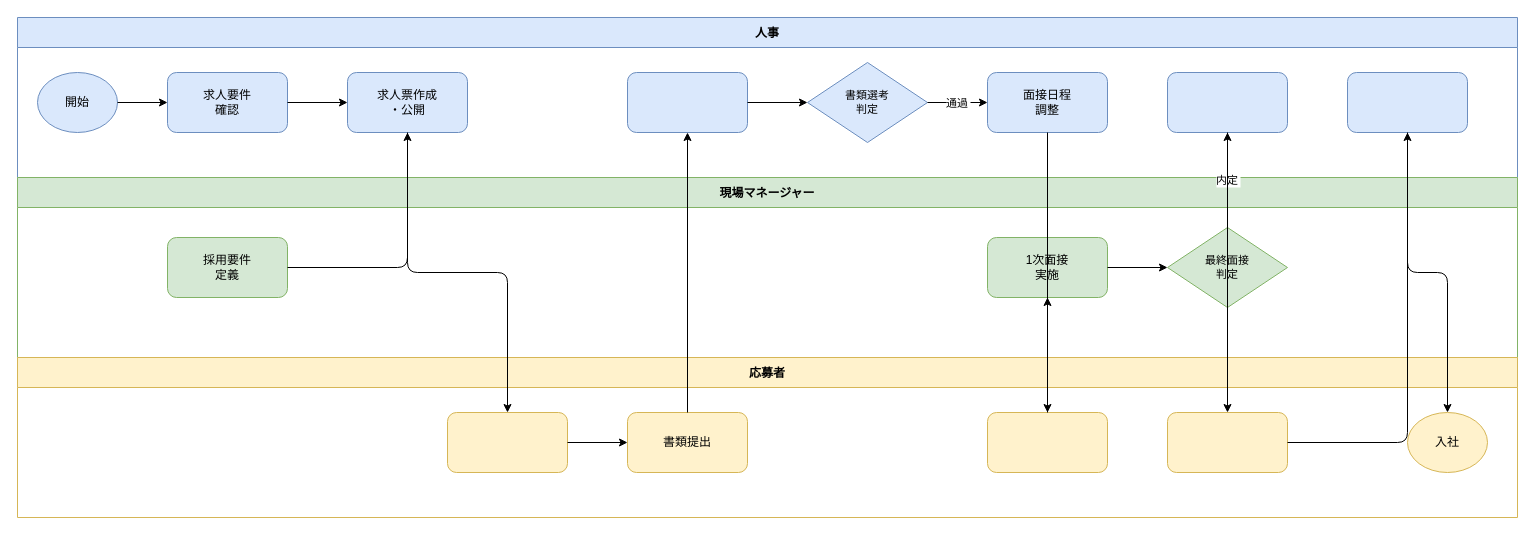
Image size: 1535x535. Some labels were removed from this diagram. Each missing label, with the centre of its shape:
"入社手続き" belongs at [1407,102].
"内定承諾" belongs at [1227,442].
"内定通知 発送" belongs at [1227,102].
"書類選考" belongs at [687,102].
"求人閲覧 エントリー" belongs at [507,442].
"面接参加" belongs at [1047,442].
